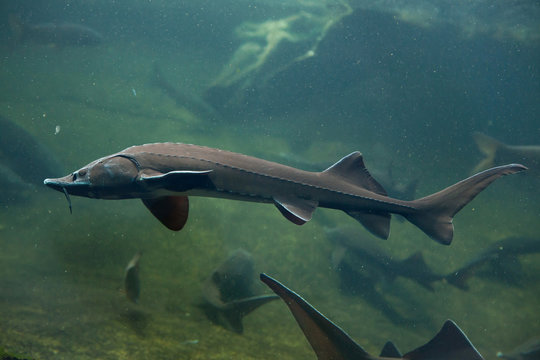Sturgeon: (50, 132, 524, 250)
